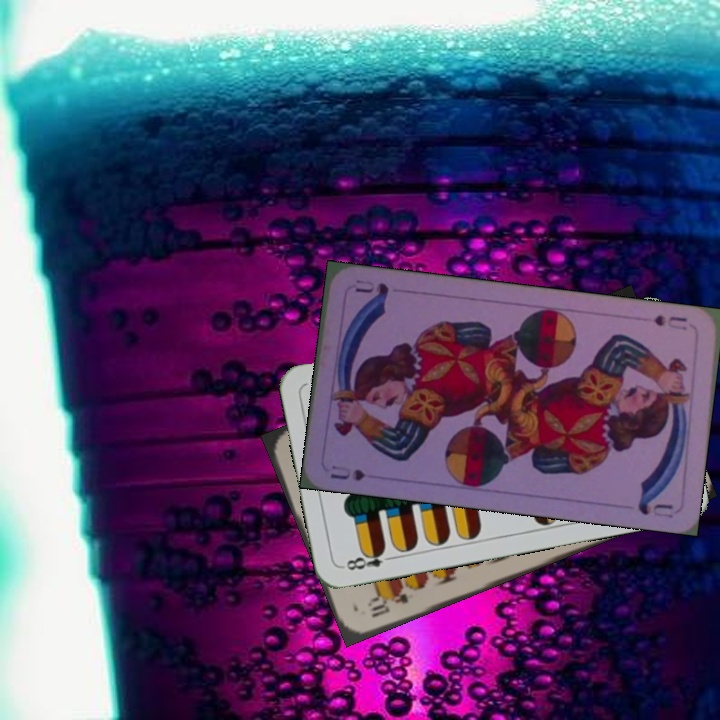E10: (363, 586, 412, 621)
E8: (342, 544, 398, 573)
SU: (326, 461, 368, 483), (649, 311, 690, 333)
